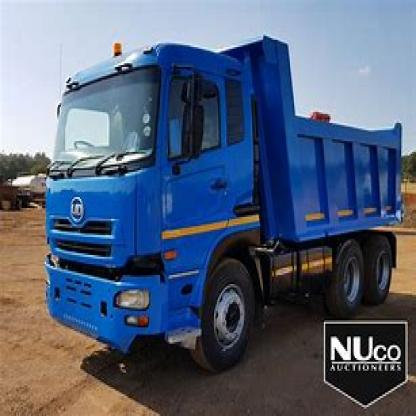dump_truck: (48, 31, 414, 365)
